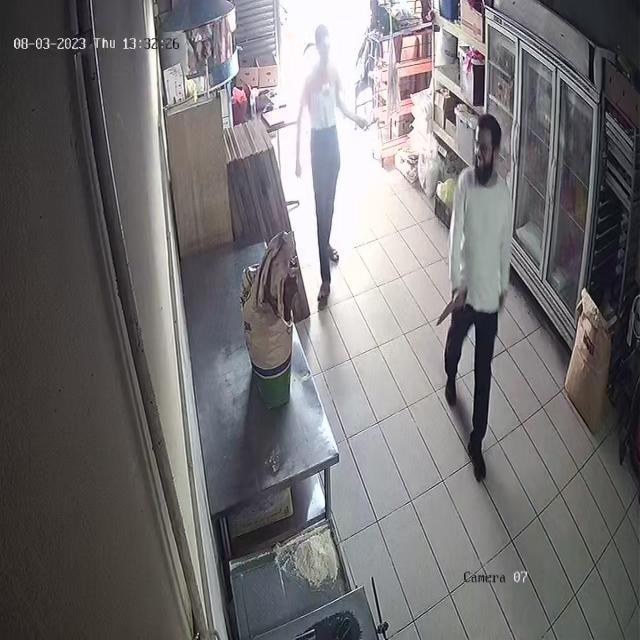Knife: (429, 289, 473, 331)
